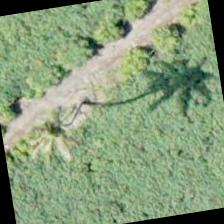Kelapa_Sawit: (0, 90, 90, 192)
